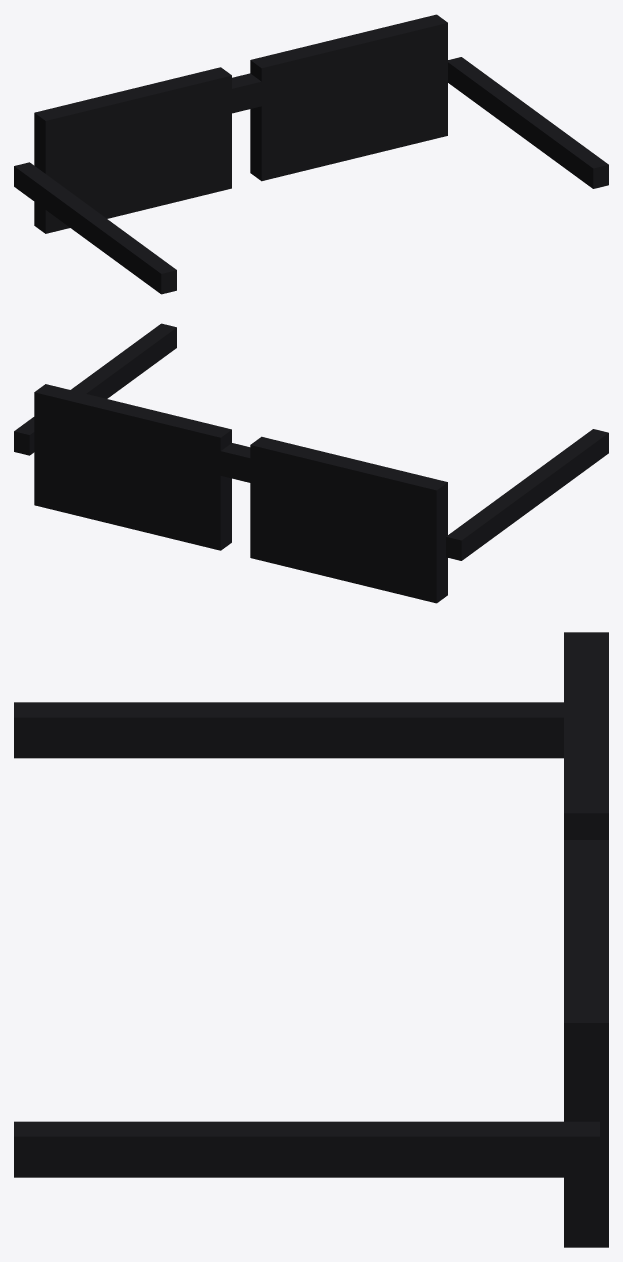
The model's file is cosmetic_glasses_sunglasses.glb.
3 renders of one model, top to bottom at view 1: azimuth 30°, elevation 25°; view 2: azimuth 150°, elevation 25°; view 3: azimuth 270°, elevation 25°, orthographic. The views are drawn at different scales.
Parts seen in each view (by area): view 1: cosmetic_glasses_sunglasses; view 2: cosmetic_glasses_sunglasses; view 3: cosmetic_glasses_sunglasses.
Part boxes in pixels (<box>): cosmetic_glasses_sunglasses: <box>14,14,608,294</box>; cosmetic_glasses_sunglasses: <box>14,323,608,603</box>; cosmetic_glasses_sunglasses: <box>14,632,608,1247</box>.
Bounding box in the file's own units: 0.228 × 0.055 × 0.132.
1 material, 1 textured.
